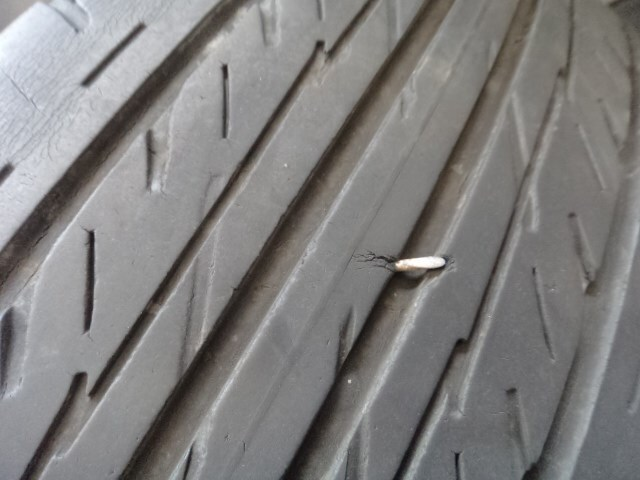tire_puncture_object: (338, 233, 471, 285)
